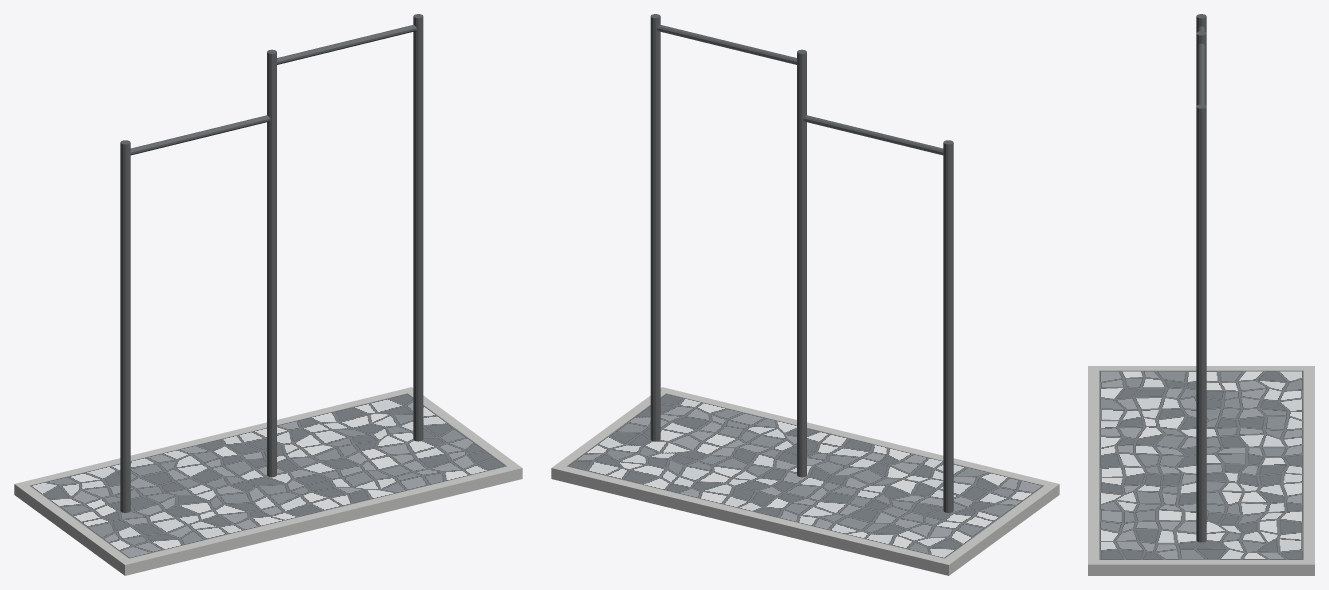
Rendered from tiang_pull_up_bar.glb.
3 views of the same model, side by side, from view 1: azimuth 30°, elevation 25°; view 2: azimuth 150°, elevation 25°; view 3: azimuth 270°, elevation 25° (orthographic). The views are drawn at different scales.
Parts seen in each view (by area): view 1: Mozaik_Keramik_AbuPutih, Tiang_Besi_PullUp_Hitam, Curb_Beton_PullUp; view 2: Mozaik_Keramik_AbuPutih, Tiang_Besi_PullUp_Hitam, Curb_Beton_PullUp; view 3: Mozaik_Keramik_AbuPutih, Curb_Beton_PullUp, Tiang_Besi_PullUp_Hitam.
Part boxes in pixels (x1,y1,x2,y2): Mozaik_Keramik_AbuPutih: [30, 393, 506, 558]; Tiang_Besi_PullUp_Hitam: [120, 14, 423, 512]; Curb_Beton_PullUp: [14, 387, 522, 575]; Mozaik_Keramik_AbuPutih: [567, 393, 1043, 558]; Tiang_Besi_PullUp_Hitam: [650, 14, 953, 512]; Curb_Beton_PullUp: [551, 387, 1059, 575]; Mozaik_Keramik_AbuPutih: [1099, 370, 1303, 559]; Curb_Beton_PullUp: [1088, 366, 1314, 575]; Tiang_Besi_PullUp_Hitam: [1196, 14, 1206, 542].
Bounding box in the file's own units: 2.28 × 2.38 × 1.1.
Materials: 3 (1 with a texture image).
